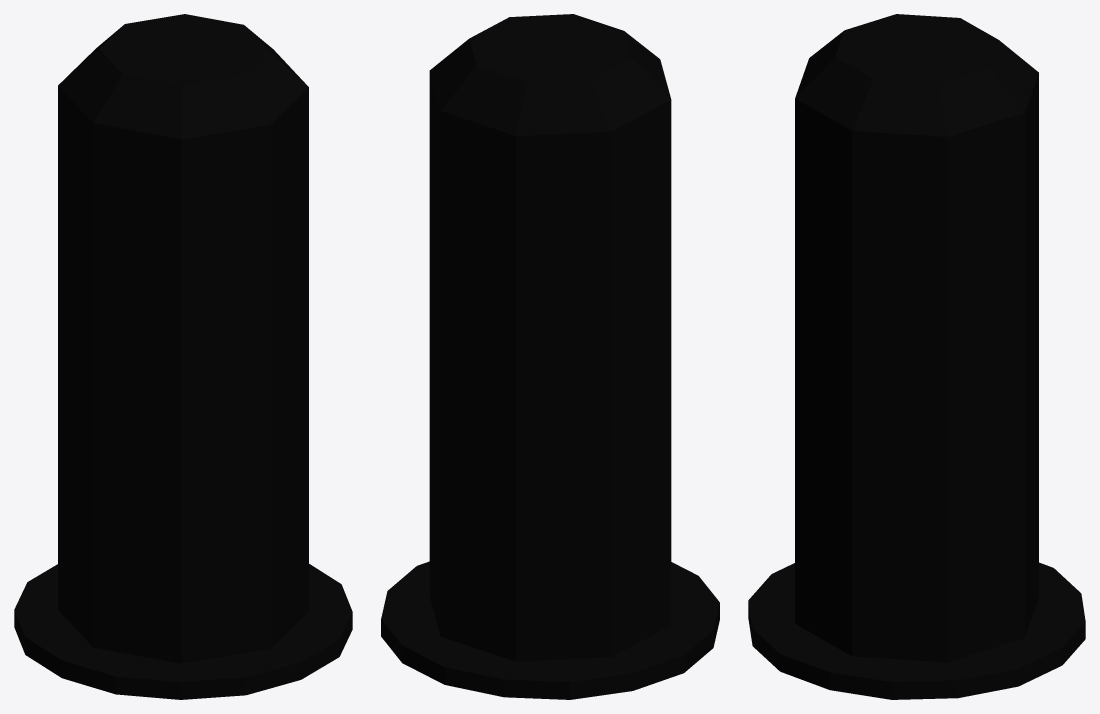
Rendered from mesh13.dat.obj.
3 renders of one model, left to right at view 1: azimuth 30°, elevation 25°; view 2: azimuth 150°, elevation 25°; view 3: azimuth 270°, elevation 25°, orthographic.
Visible parts, largest first — view 1: Center_Screw_low; view 2: Center_Screw_low; view 3: Center_Screw_low.
Part boxes in pixels (<box>): Center_Screw_low: <box>14,14,352,699</box>; Center_Screw_low: <box>381,14,719,699</box>; Center_Screw_low: <box>748,14,1085,699</box>.
Size of the model in its own units: 0.1798 by 0.3413 by 0.1798.
1 material, 1 textured.
